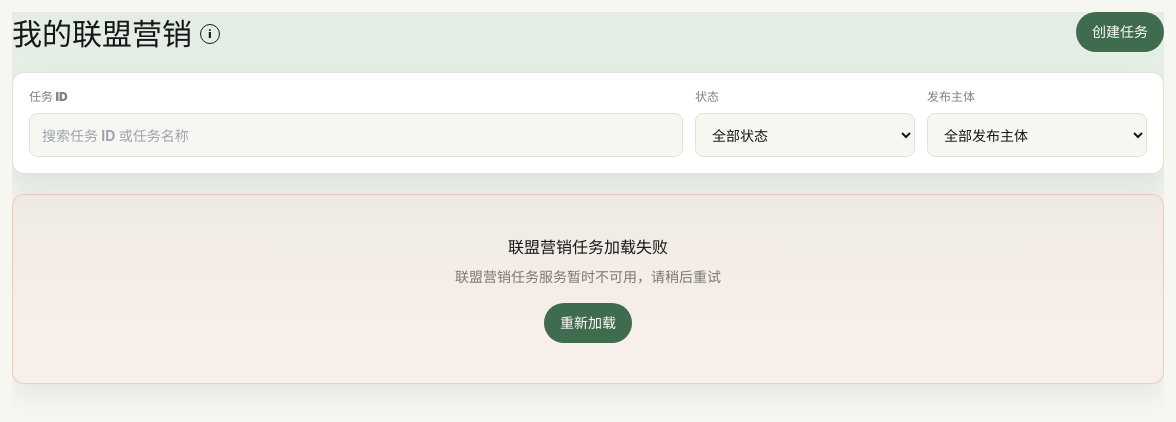
MerchantAffiliateTasksPage › maps safe errors and retries the formal request
The image size is (1176, 422).
What coordinates should you click on to do the following:
click the button "重新加载"
I would click on:
 (588, 323)
Its box is [544, 303, 632, 343].
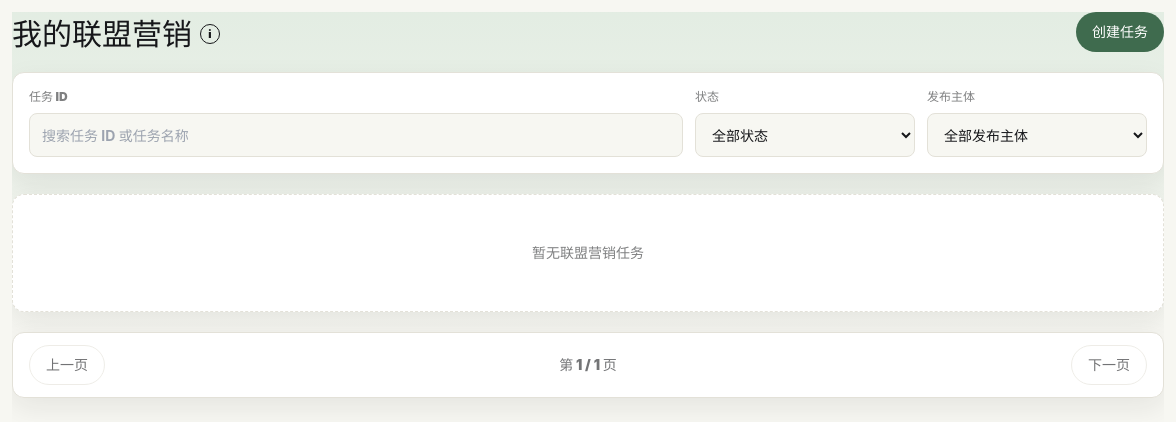
Expected: the text "暂无联盟营销任务" is shown, [532, 244, 644, 261]
